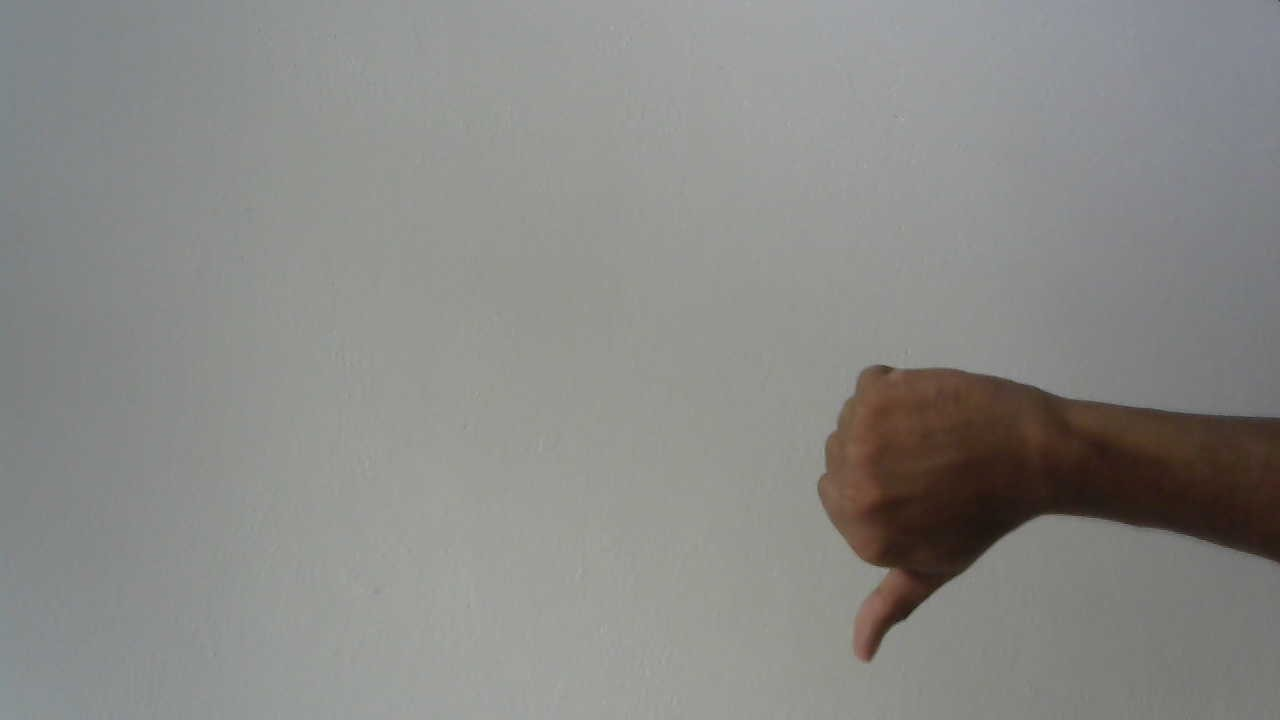thumbsdown: (794, 331, 1089, 674)
